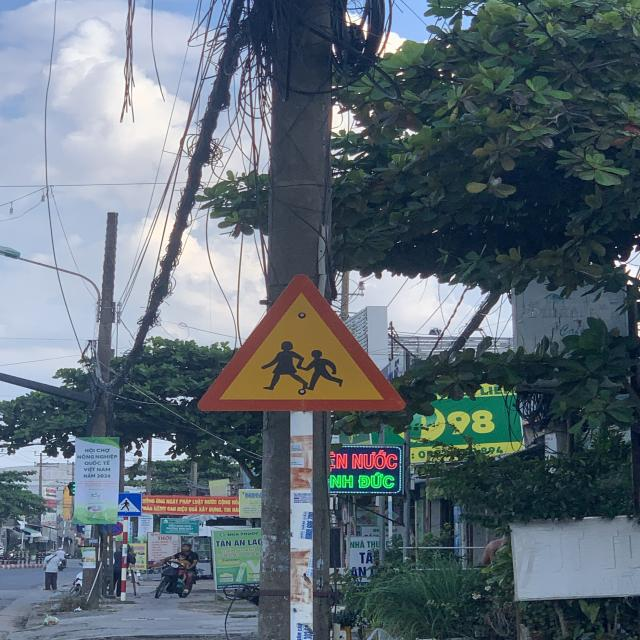Vong_Xuyen: (198, 272, 408, 411)
